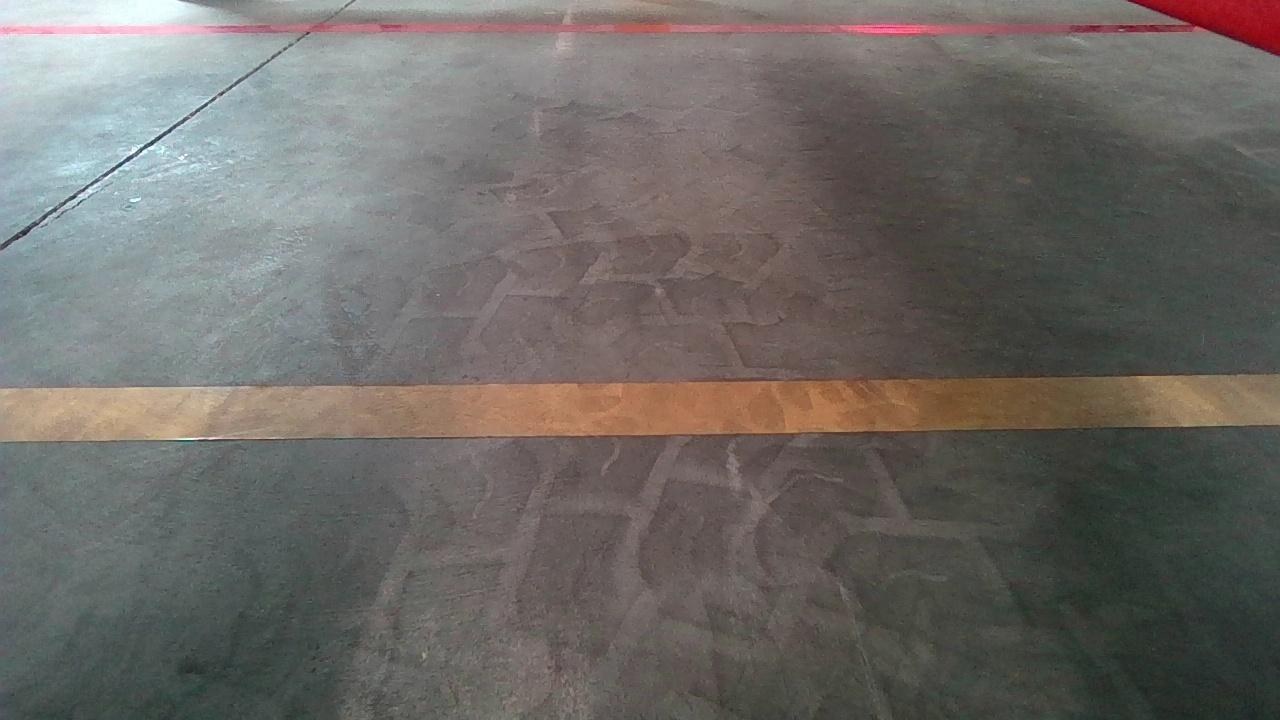yellow_line: (3, 369, 1277, 440)
